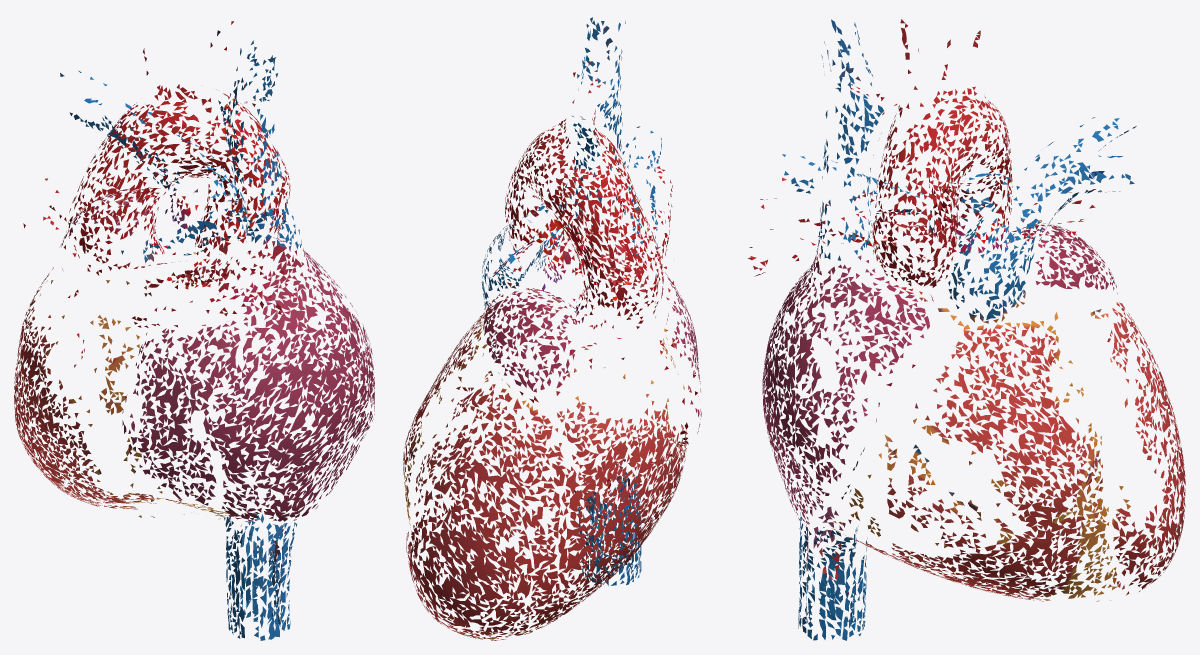
The model's file is heart.glb.
3 views of the same model, side by side, from view 1: azimuth 30°, elevation 25°; view 2: azimuth 150°, elevation 25°; view 3: azimuth 270°, elevation 25° (orthographic). The views are drawn at different scales.
Visible parts, largest first — view 1: tripo_node_045d8eb0-72ec-4624-9759-a425f321d17a; view 2: tripo_node_045d8eb0-72ec-4624-9759-a425f321d17a; view 3: tripo_node_045d8eb0-72ec-4624-9759-a425f321d17a.
Part boxes in pixels (x1,y1,x2,y2): tripo_node_045d8eb0-72ec-4624-9759-a425f321d17a: [14, 21, 374, 640]; tripo_node_045d8eb0-72ec-4624-9759-a425f321d17a: [403, 17, 701, 640]; tripo_node_045d8eb0-72ec-4624-9759-a425f321d17a: [747, 19, 1185, 640].
Size of the model in its own units: 0.4753 by 0.9861 by 0.6407.
Materials: 1 (1 with a texture image).
